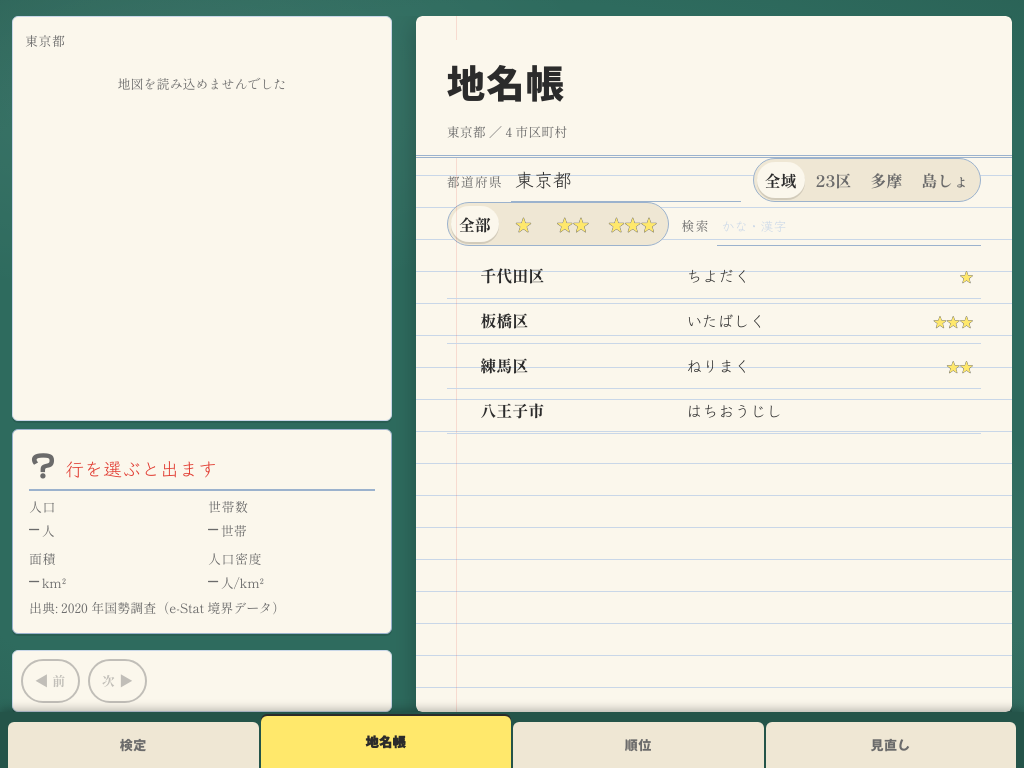
it: 地名帳の検索 › 漢字・かなの部分一致で絞れ、見出しの件数が表示中の行数と一致する
The image size is (1024, 768).
Note: 漢字の部分一致。前方一致では当たらない「橋」で板橋区が出る（設計 §12.5）
Type "橋" into the search field named "市区町村名・よみで絞り込む" at (849, 224), box [717,202,981,246]
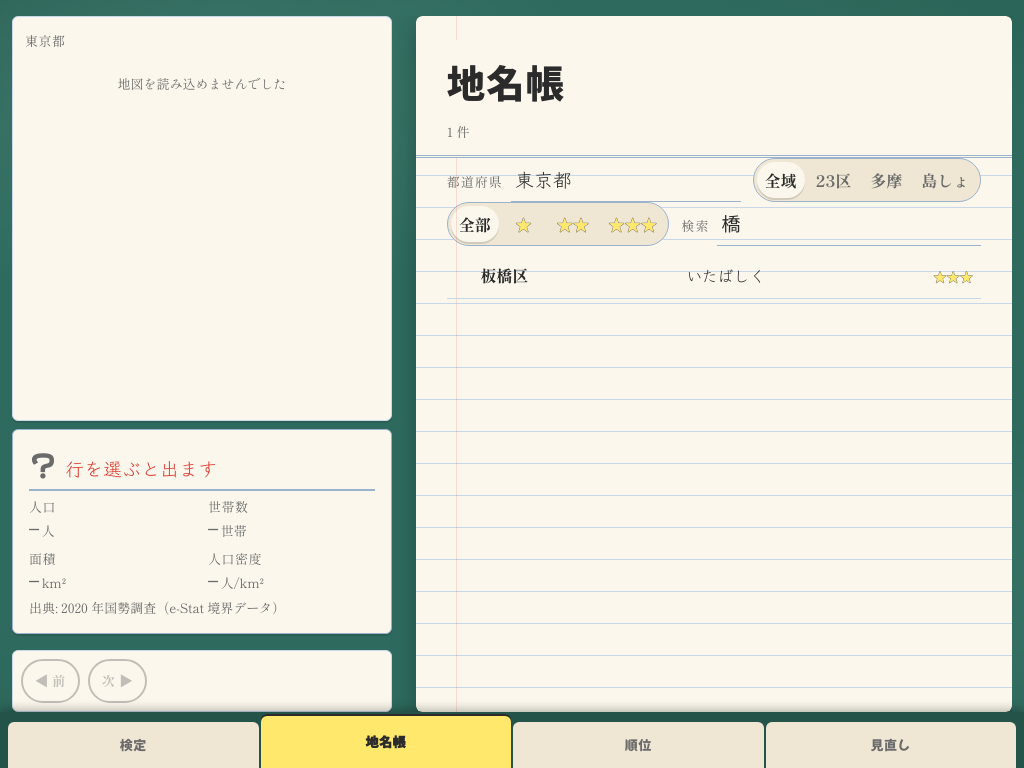
Check: the text "1 件" is shown, box [447,122,469,141]
Note: かなの部分一致。読みの途中でも当たる（いた「ばし」く）
Replace the text in the search field named "市区町村名・よみで絞り込む" with "ばし" at (849, 224), box [717,202,981,246]
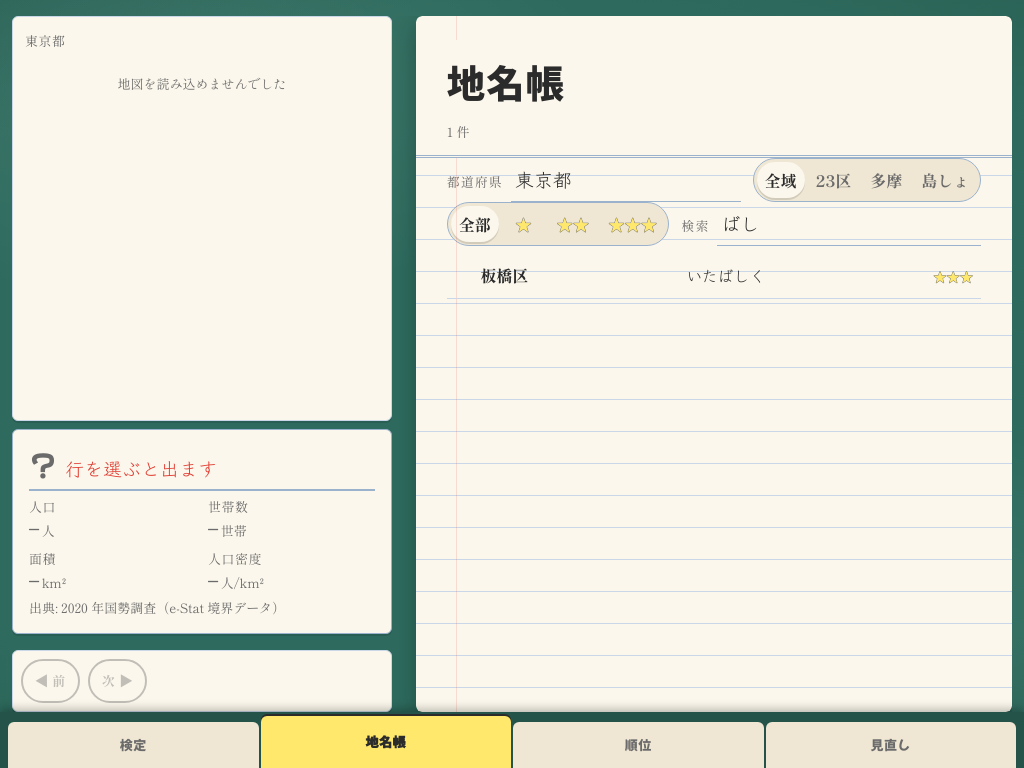
Replace the text in the search field named "市区町村名・よみで絞り込む" with "区" at (849, 224), box [717,202,981,246]
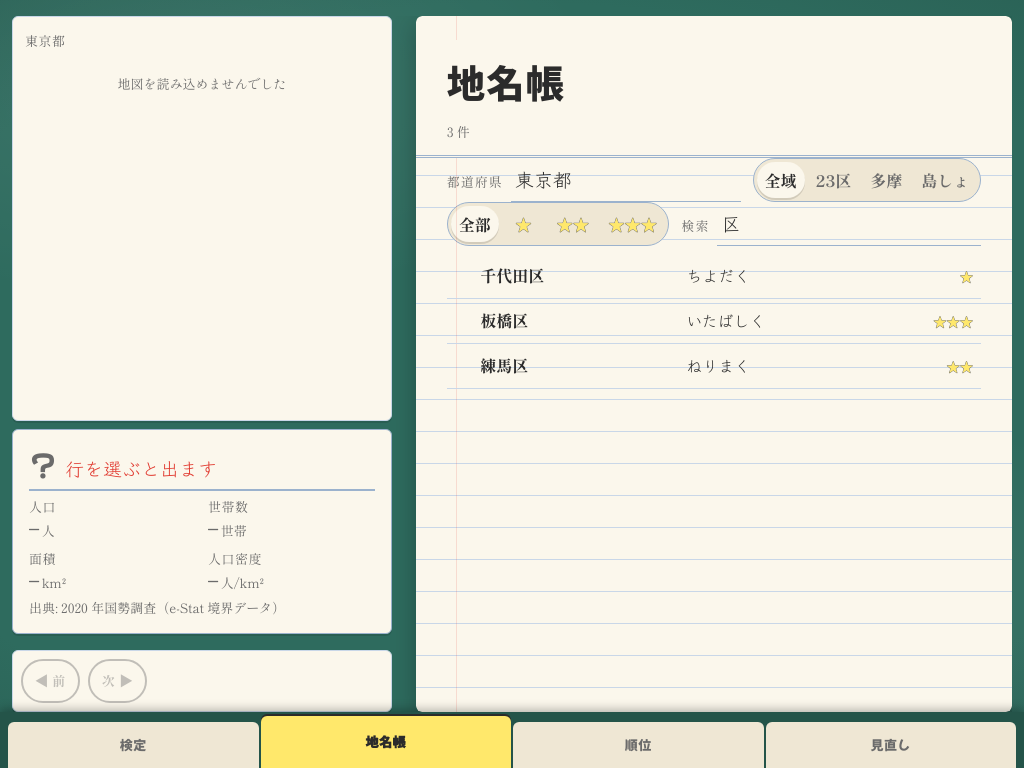
Check: the text "3 件" is shown, box [447,122,470,141]
